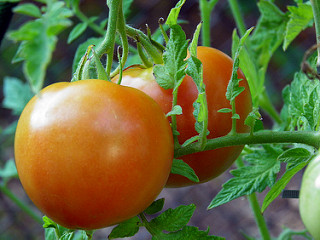tomato: (11, 83, 168, 219)
